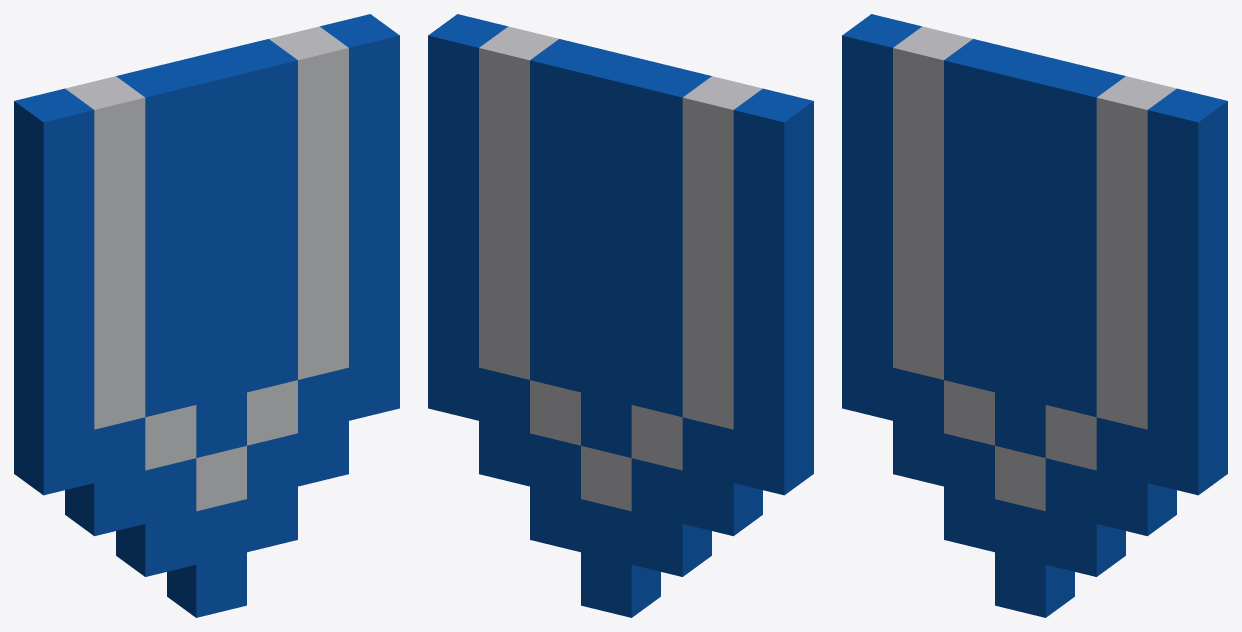
Rendered from banner_b_blue.obj.
3 renders of one model, left to right at view 1: azimuth 30°, elevation 25°; view 2: azimuth 150°, elevation 25°; view 3: azimuth 330°, elevation 25°, orthographic.
Bounding box in the file's own units: 0.7 × 1 × 0.1.
1 material, 1 textured.
